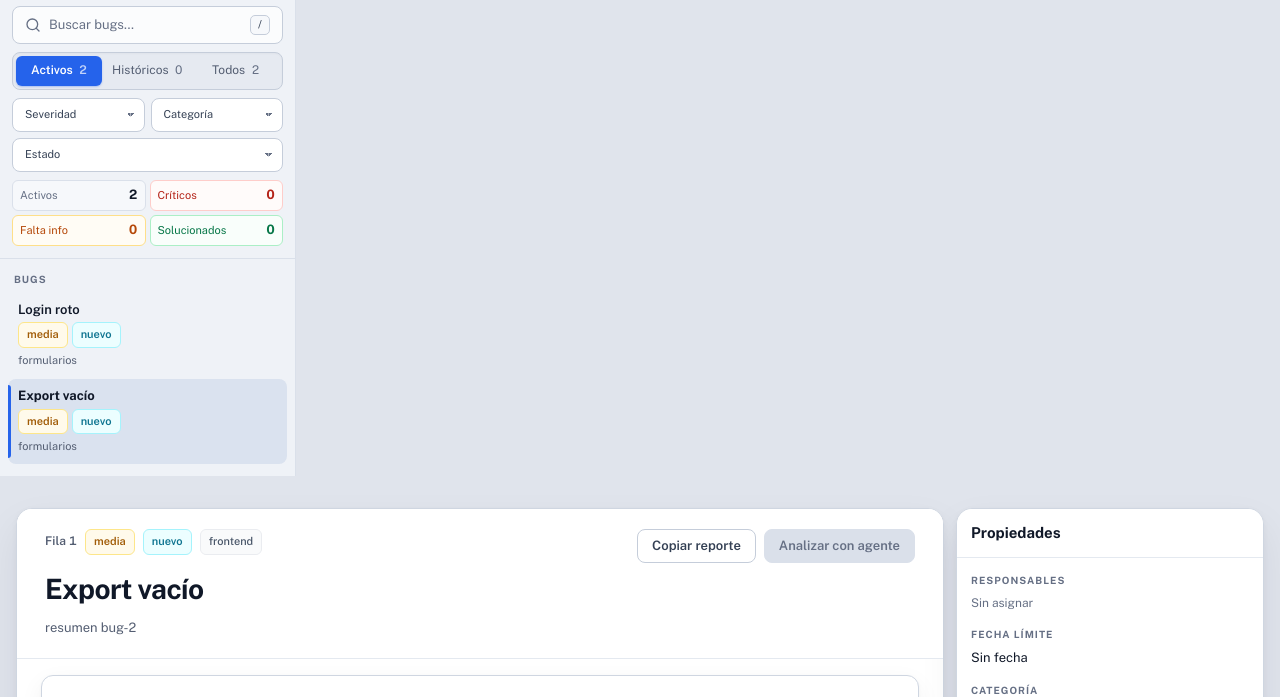
Test: BugsScreen — tres columnas › si el filtro deja afuera al bug enfocado, muestra el primero visible
Step 1. Type "Login" into the field labelled "Buscar bugs" → (146, 25), box [49,15,242,35]
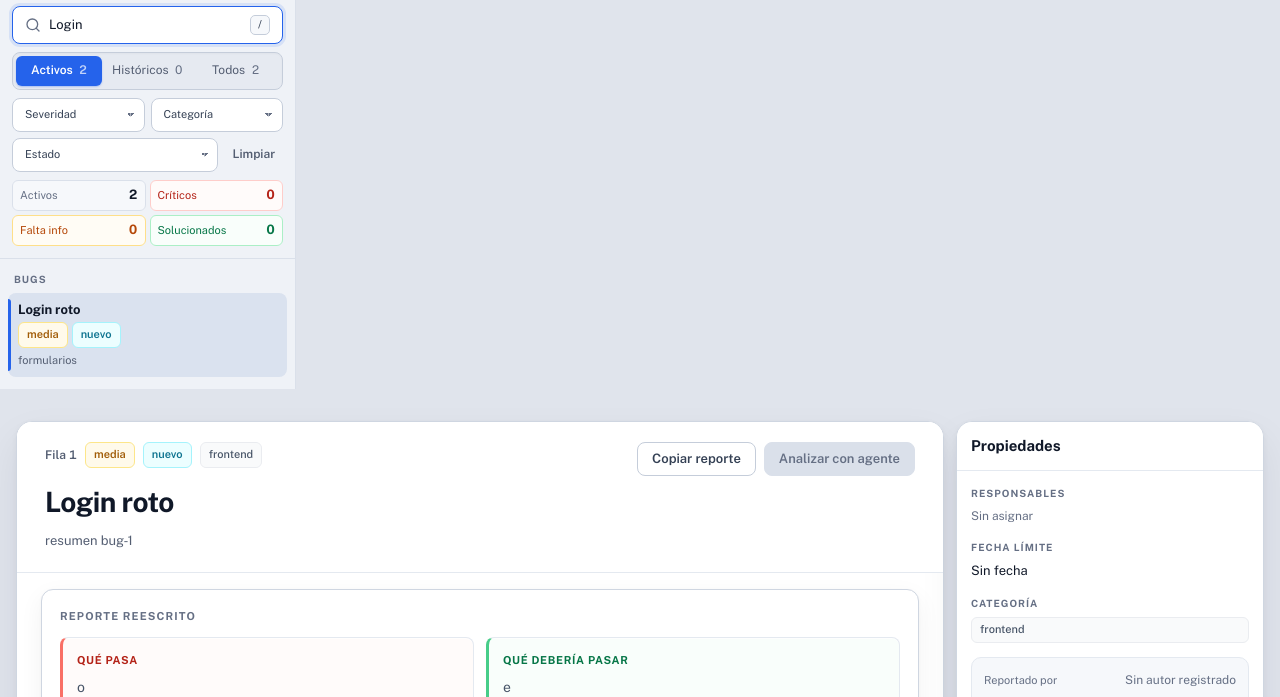
Expected: the heading "Login roto" is shown, [45,485,174,518]
